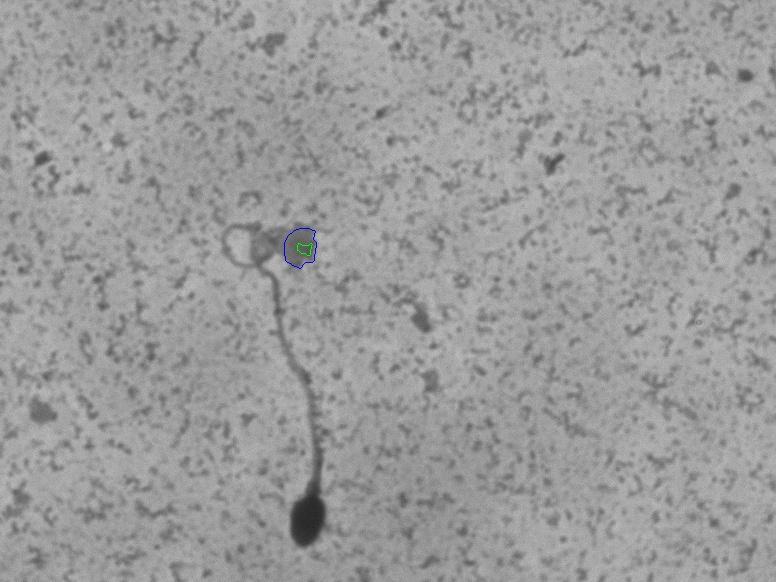Abnormal: (205, 211, 340, 558)
